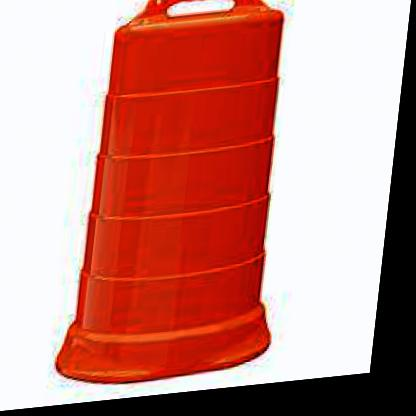obstacle: (44, 0, 314, 360)
